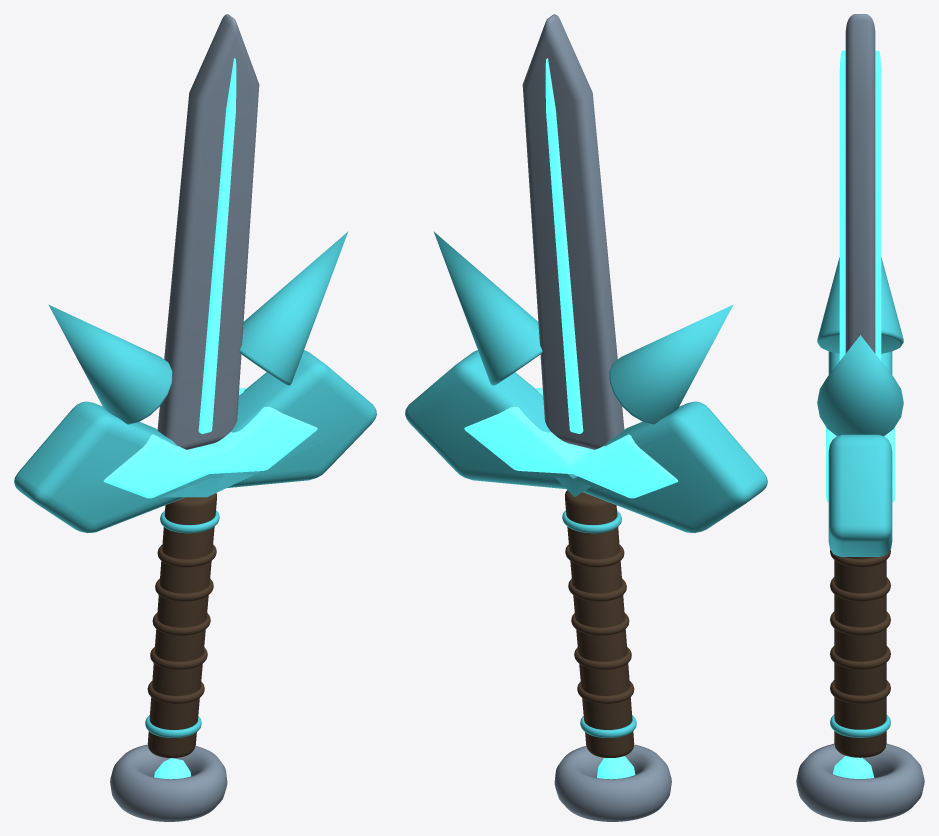
File: dagger_v4.glb
3 views of the same model, side by side, from view 1: azimuth 30°, elevation 25°; view 2: azimuth 150°, elevation 25°; view 3: azimuth 270°, elevation 25° (orthographic). The views are drawn at different scales.
Parts seen in each view (by area): view 1: FACETED_BLADE_PRIMARY, WINGED_GUARD_ACCENT, GRIP_SECONDARY, GUARD_INLAY_EMISSIVE, SWEPT_FIN_ACCENT, RING_POMMEL_PRIMARY, SWEPT_FIN_ACCENT.001, BLADE_FULLER_EMISSIVE; view 2: FACETED_BLADE_PRIMARY, WINGED_GUARD_ACCENT, GRIP_SECONDARY, GUARD_INLAY_EMISSIVE, SWEPT_FIN_ACCENT, SWEPT_FIN_ACCENT.001, RING_POMMEL_PRIMARY, BLADE_FULLER_EMISSIVE, POMMEL_GEM_EMISSIVE; view 3: FACETED_BLADE_PRIMARY, WINGED_GUARD_ACCENT, GRIP_SECONDARY, RING_POMMEL_PRIMARY, SWEPT_FIN_ACCENT.001, BLADE_FULLER_EMISSIVE, SWEPT_FIN_ACCENT, POMMEL_GEM_EMISSIVE, GRIP_WRAP_SECONDARY.001, GRIP_WRAP_SECONDARY.002, GRIP_WRAP_SECONDARY.003, GRIP_WRAP_SECONDARY (+3 smaller).
Part boxes in pixels (<box>): FACETED_BLADE_PRIMARY: <box>157,14,259,449</box>; WINGED_GUARD_ACCENT: <box>14,350,376,533</box>; GRIP_SECONDARY: <box>147,493,216,757</box>; GUARD_INLAY_EMISSIVE: <box>103,388,317,498</box>; SWEPT_FIN_ACCENT: <box>48,304,172,424</box>; RING_POMMEL_PRIMARY: <box>110,744,227,821</box>; SWEPT_FIN_ACCENT.001: <box>239,231,348,385</box>; BLADE_FULLER_EMISSIVE: <box>198,58,236,433</box>; FACETED_BLADE_PRIMARY: <box>522,14,624,449</box>; WINGED_GUARD_ACCENT: <box>405,350,767,533</box>; GRIP_SECONDARY: <box>565,490,634,757</box>; GUARD_INLAY_EMISSIVE: <box>464,388,678,498</box>; SWEPT_FIN_ACCENT: <box>609,304,733,424</box>; SWEPT_FIN_ACCENT.001: <box>433,231,542,385</box>; RING_POMMEL_PRIMARY: <box>554,744,671,821</box>; BLADE_FULLER_EMISSIVE: <box>545,58,583,433</box>; POMMEL_GEM_EMISSIVE: <box>597,756,635,779</box>; FACETED_BLADE_PRIMARY: <box>845,14,875,353</box>; WINGED_GUARD_ACCENT: <box>828,351,892,556</box>; GRIP_SECONDARY: <box>834,557,886,757</box>; RING_POMMEL_PRIMARY: <box>796,743,924,821</box>; SWEPT_FIN_ACCENT.001: <box>817,335,903,435</box>; BLADE_FULLER_EMISSIVE: <box>839,50,881,360</box>; SWEPT_FIN_ACCENT: <box>817,257,903,353</box>; POMMEL_GEM_EMISSIVE: <box>833,756,874,778</box>; GRIP_WRAP_SECONDARY.001: <box>830,646,890,669</box>; GRIP_WRAP_SECONDARY.002: <box>830,611,890,635</box>; GRIP_WRAP_SECONDARY.003: <box>830,577,890,601</box>; GRIP_WRAP_SECONDARY: <box>830,680,890,703</box>.
Size of the model in its own units: 1.52 by 3.29 by 0.4629.
